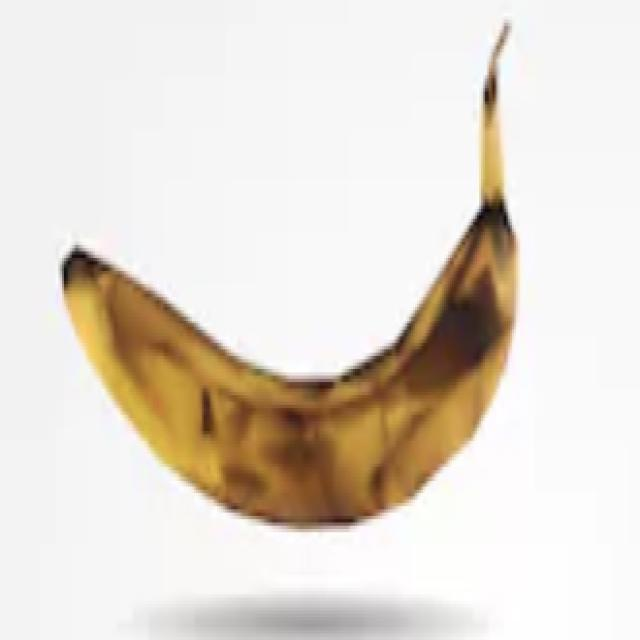rotten-banana: (58, 16, 520, 526)
